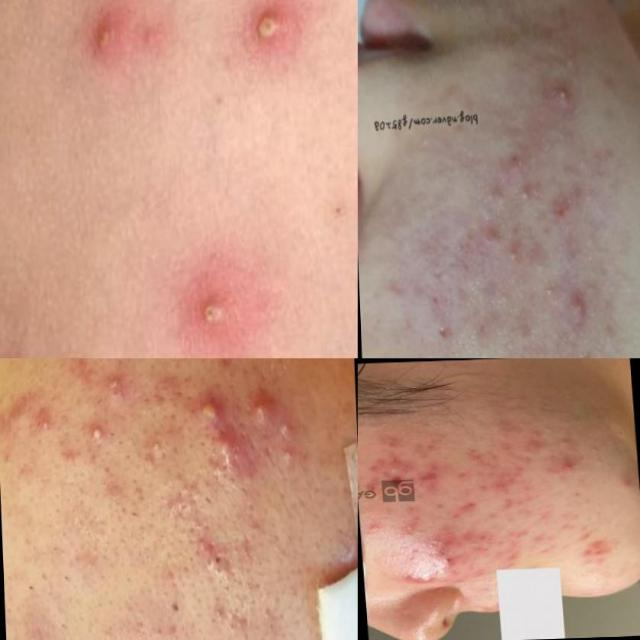8: (452, 444, 501, 475), (488, 465, 531, 498), (561, 284, 591, 330), (389, 509, 428, 539), (526, 437, 554, 459), (435, 551, 467, 567), (615, 472, 637, 493), (556, 437, 577, 451)
9: (182, 244, 229, 344), (244, 0, 287, 60), (186, 374, 218, 428), (82, 416, 109, 453), (252, 385, 272, 425), (140, 426, 162, 461), (274, 412, 296, 445), (276, 440, 298, 469), (553, 457, 583, 476)
blackheads: (576, 533, 622, 560), (377, 450, 416, 480), (456, 495, 494, 515), (399, 567, 438, 586), (415, 469, 443, 483)
dark spot: (186, 526, 230, 580), (156, 480, 200, 513)
pustules: (205, 426, 245, 474)
